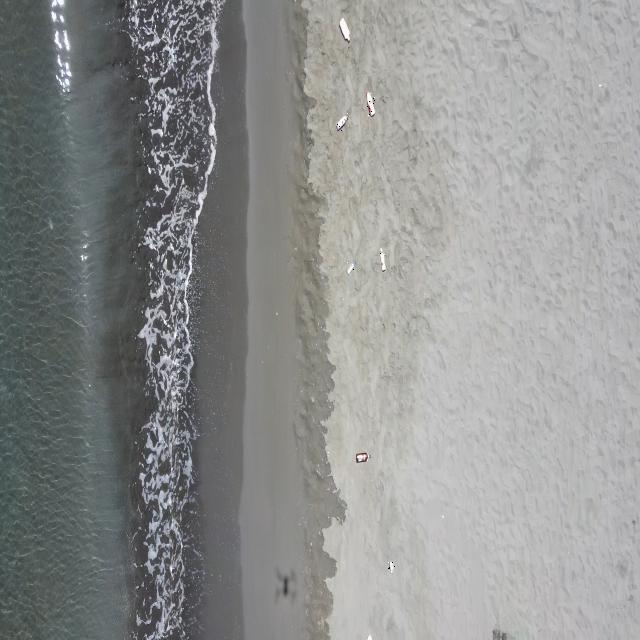Garbage: (367, 91, 375, 116), (335, 112, 347, 128), (340, 18, 348, 40), (355, 452, 367, 462), (347, 261, 355, 273), (380, 247, 384, 271), (387, 560, 392, 572)
